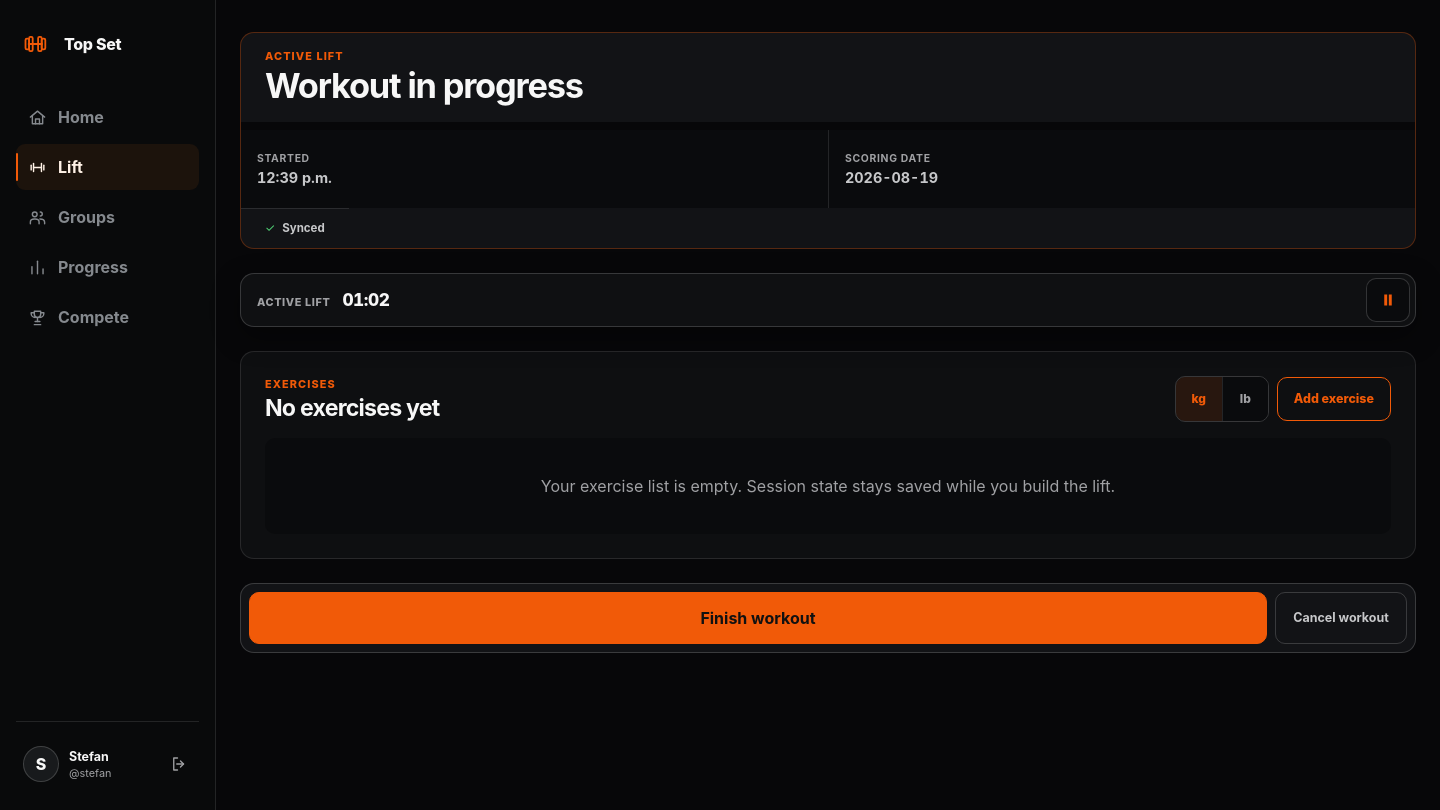
Test: workout session presentation › traps keyboard focus inside the cancel dialog and restores it on escape
This screenshot has width=1440, height=810.
Click the button "Cancel workout" at point(1341, 618), box x1=1275 y1=592 x2=1407 y2=644
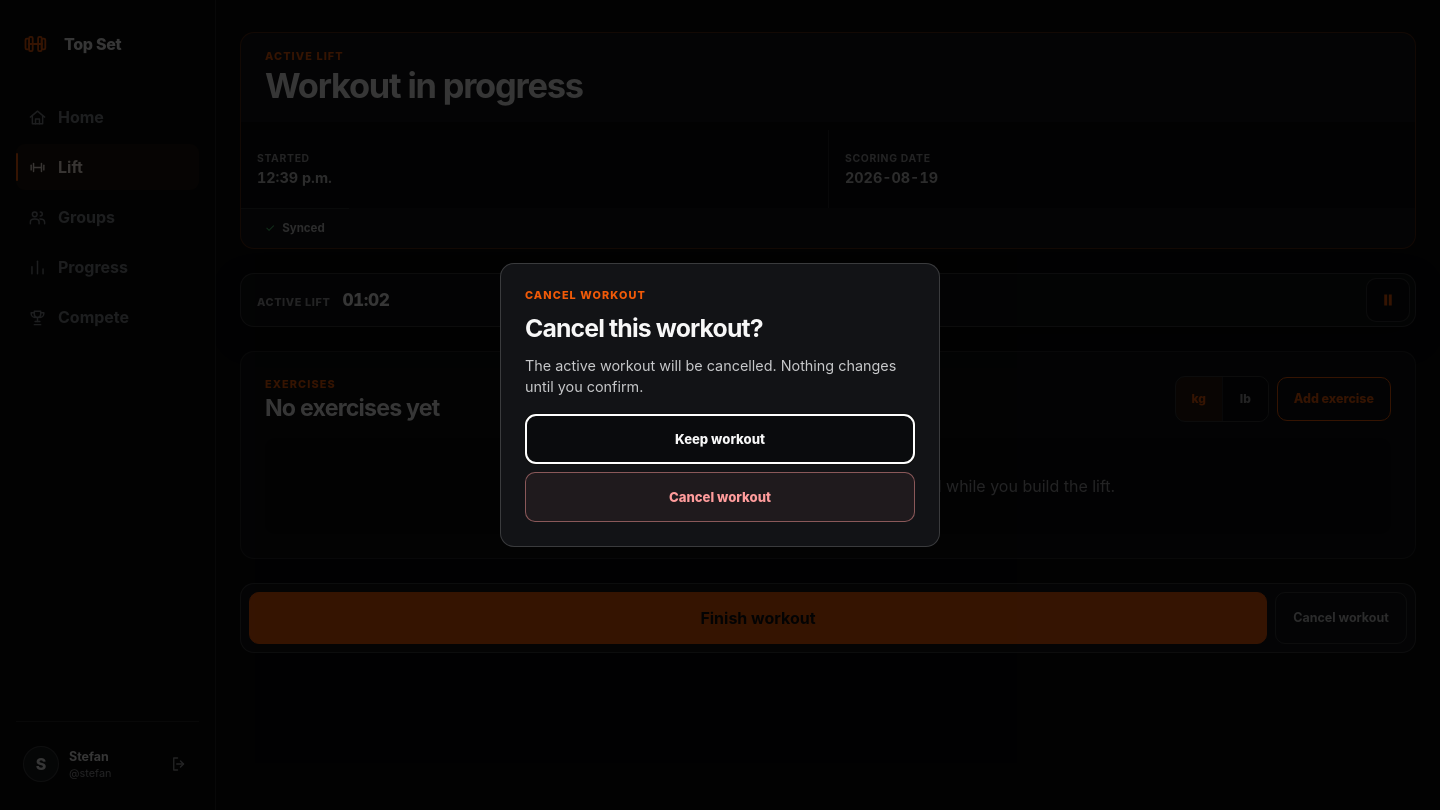
Press Tab
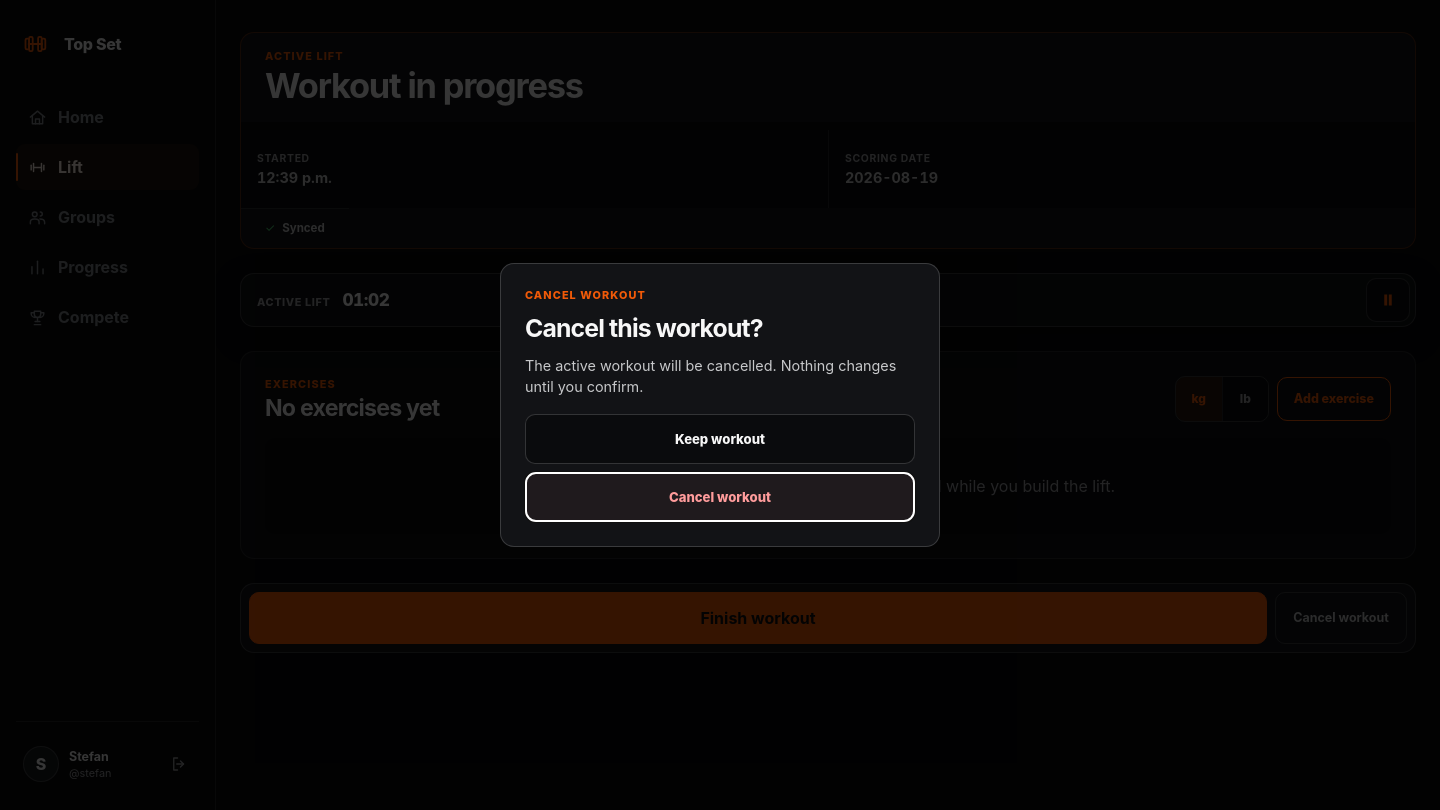
Press Tab
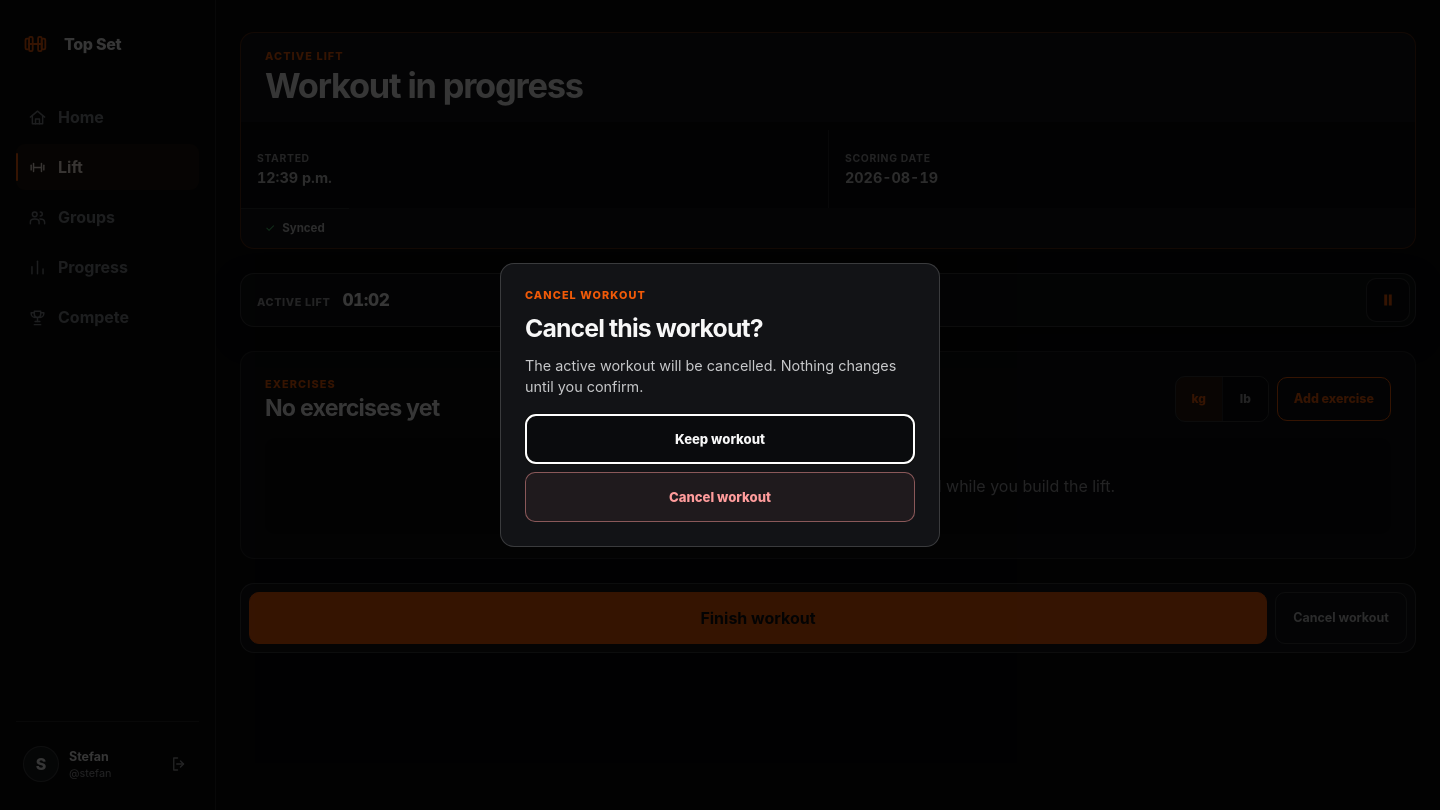
Press Escape
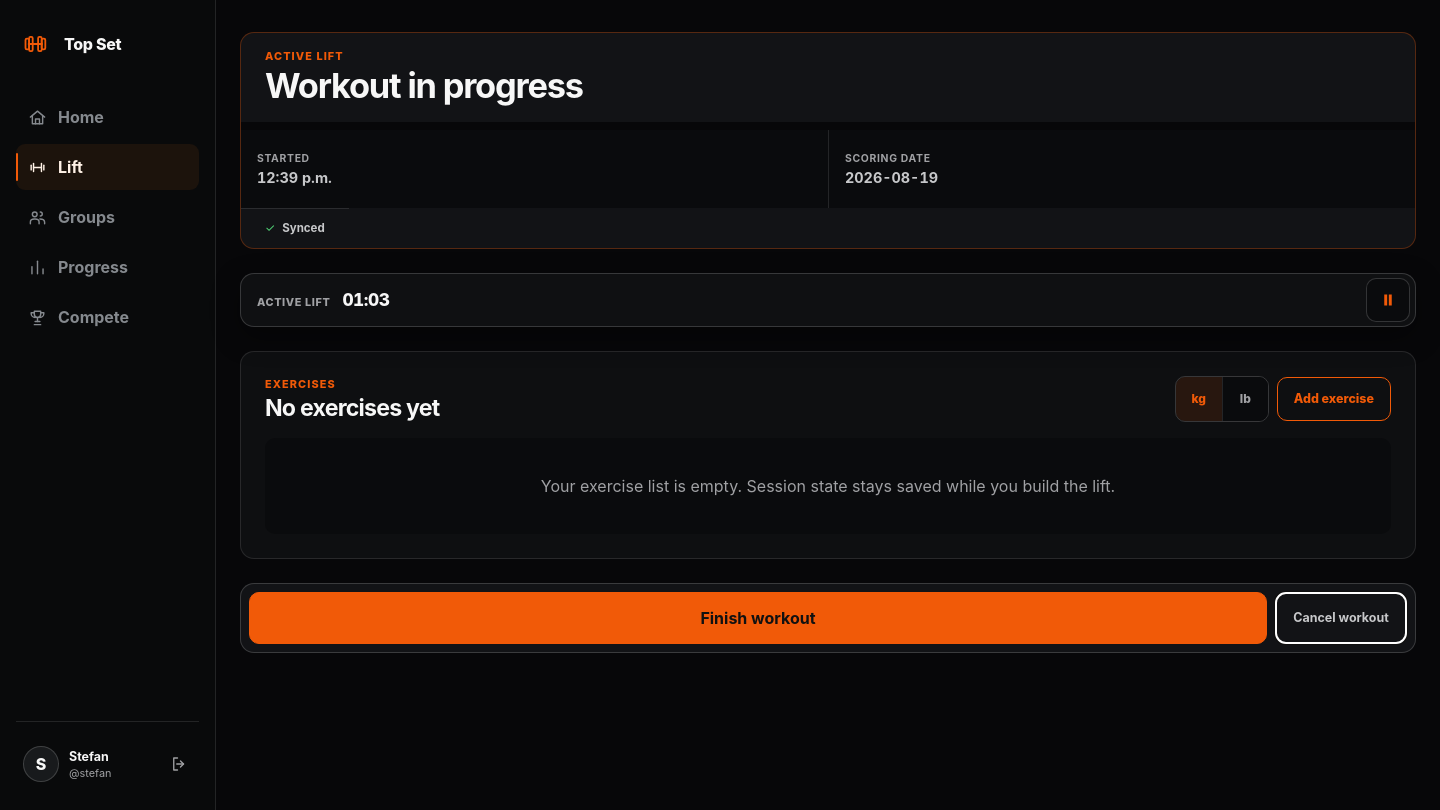
Result: the heading "Cancel this workout?" is gone
